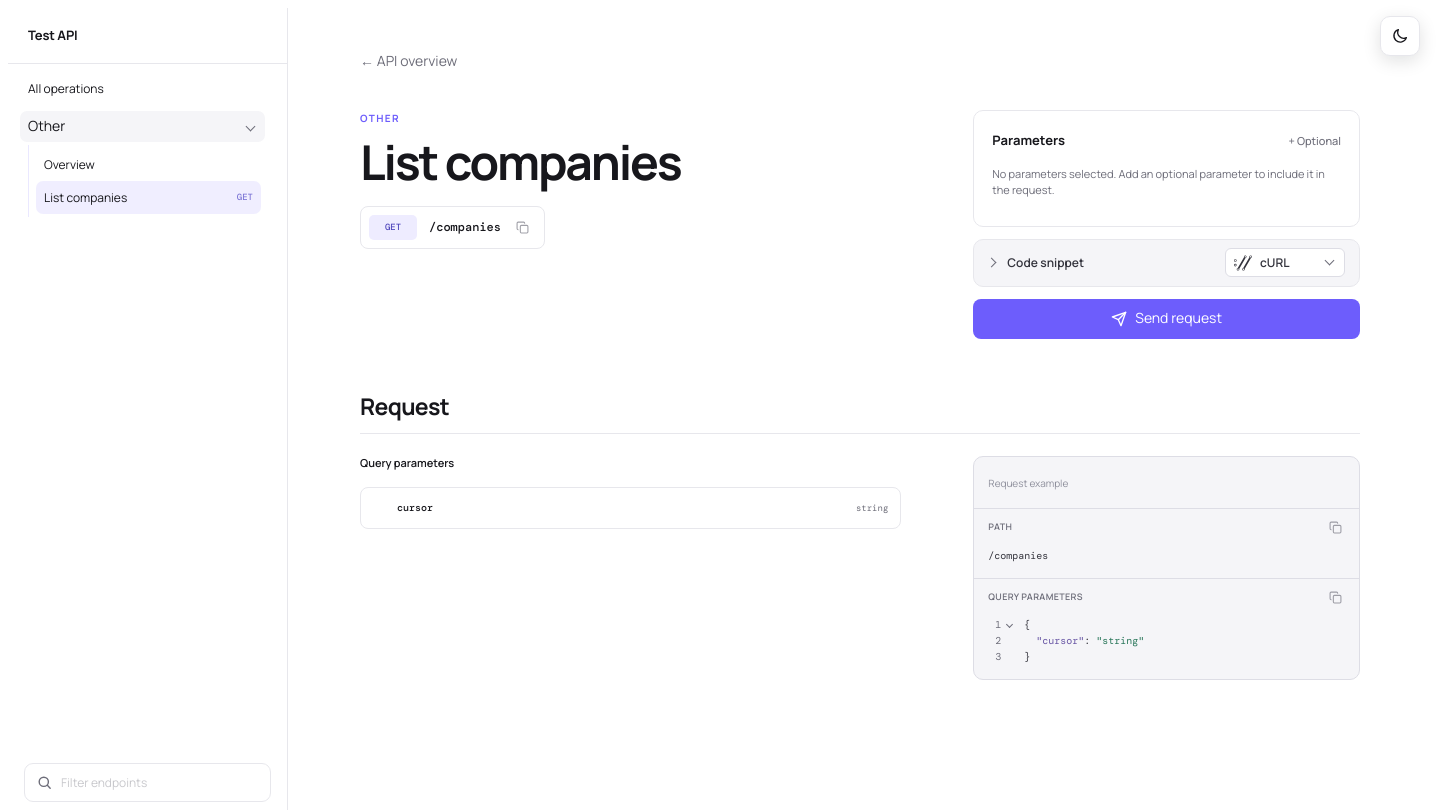
Test: Speccy navigation › explains when no optional parameters are selected in the request builder
Expected: the text "No parameters selected. Add an optional parameter to include it in the request." is shown, [992, 166, 1341, 199]
Click the button with aria-label "Add optional parameter": (1315, 141) [1288, 133, 1341, 148]
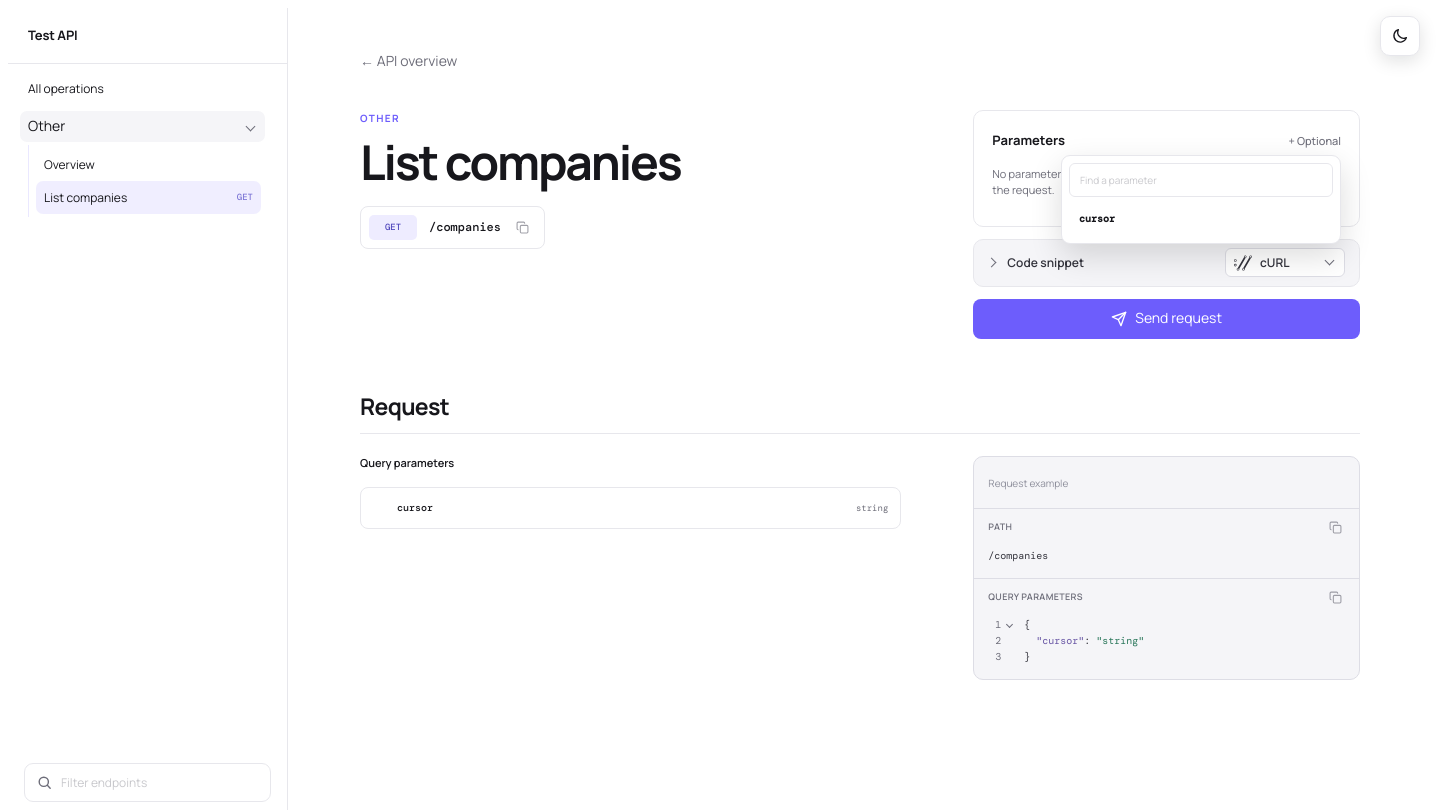
Click the button "cursor": (1097, 219) [1069, 203, 1333, 236]
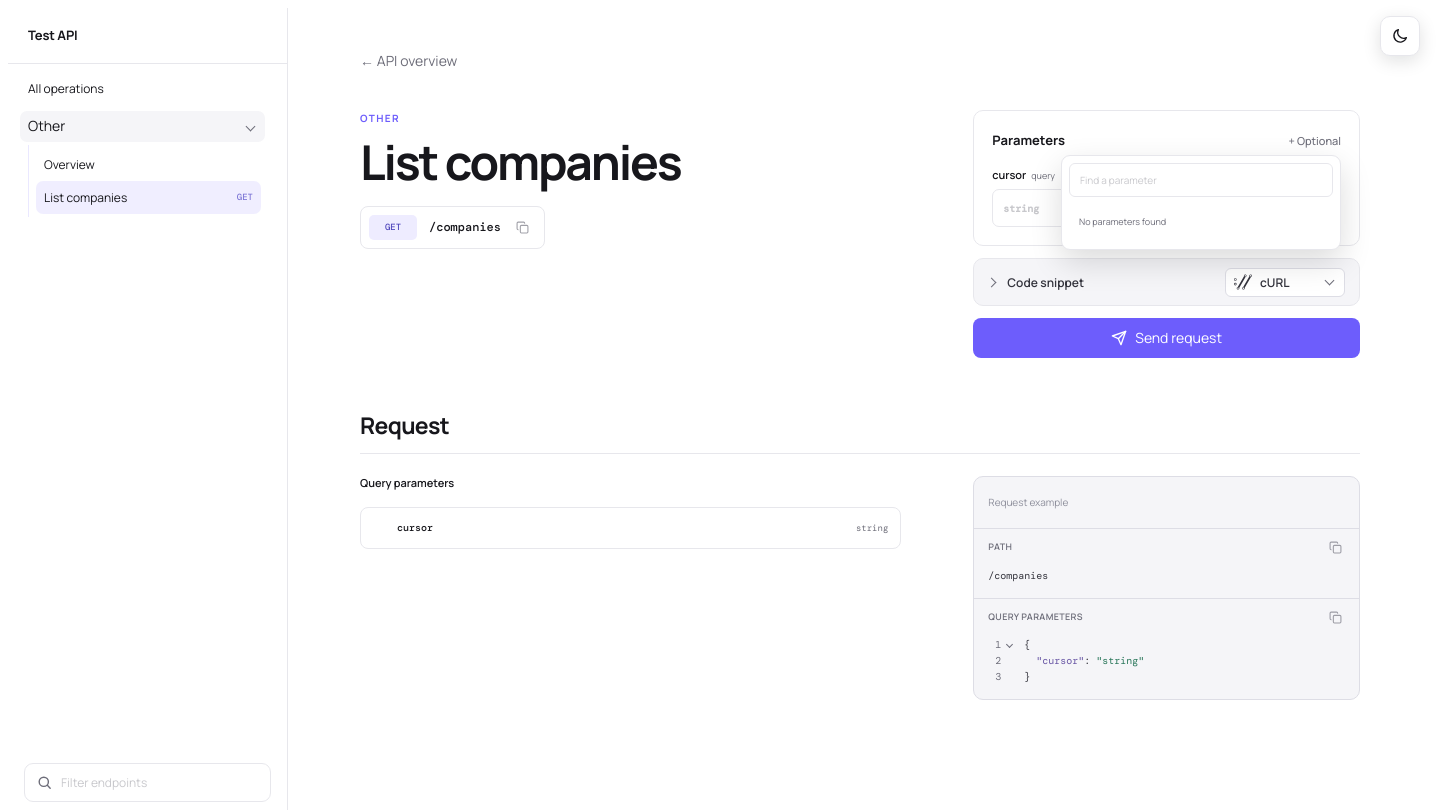
Result: the text "No parameters selected. Add an optional parameter to include it in the request." is gone
